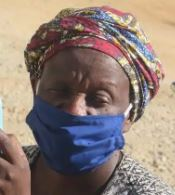with_facemask: (38, 100, 125, 177)
